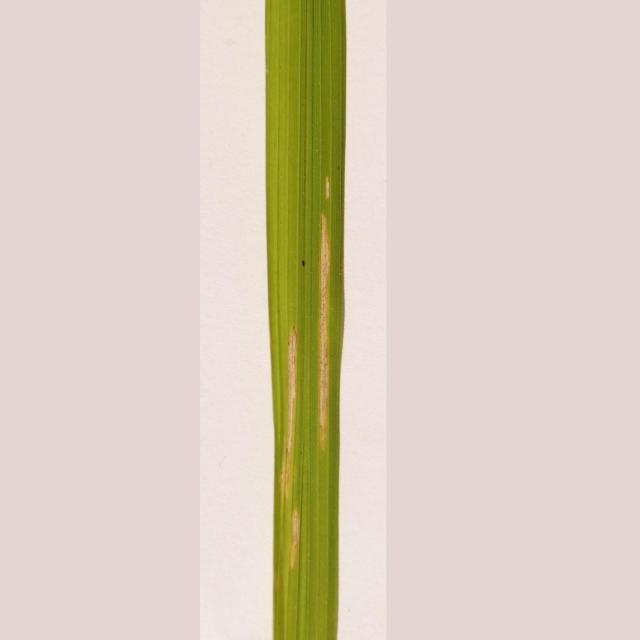leaf blight: (275, 179, 338, 579)
